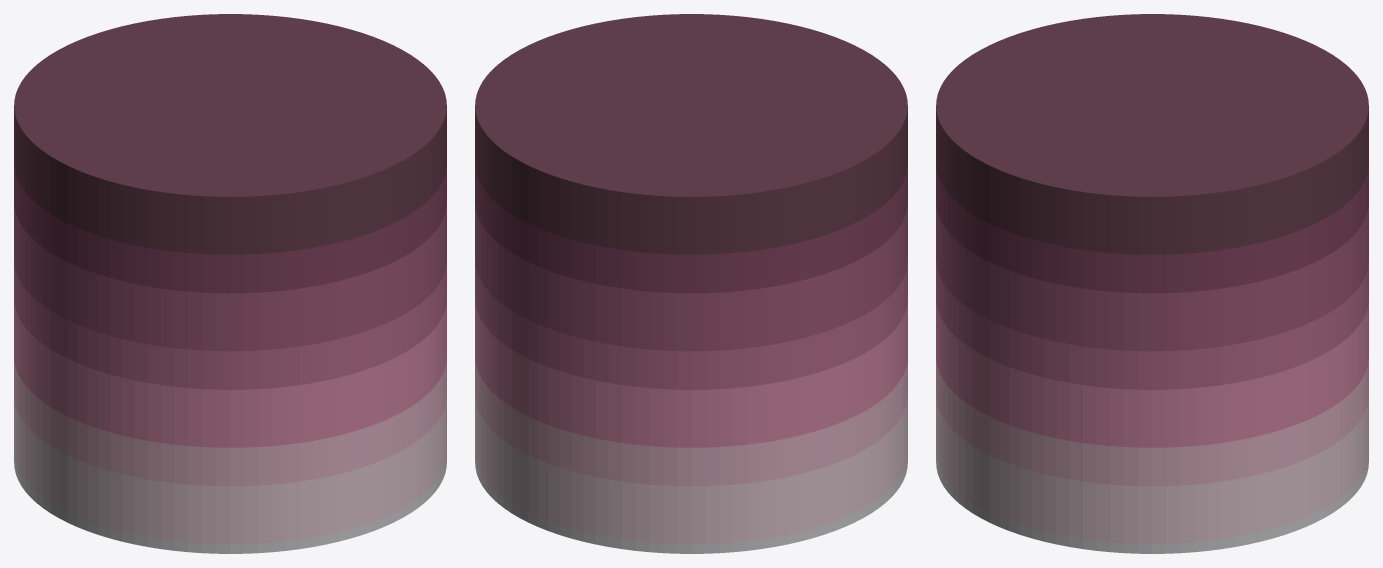
The model's file is cake_8in_layers4.glb.
The picture shows the model from 3 angles, left to right: view 1: azimuth 30°, elevation 25°; view 2: azimuth 150°, elevation 25°; view 3: azimuth 270°, elevation 25°; orthographic projection.
Parts seen in each view (by area): view 1: geometry_6, geometry_4, geometry_0, geometry_2, geometry_5, geometry_1, geometry_3, geometry_7; view 2: geometry_6, geometry_4, geometry_0, geometry_2, geometry_5, geometry_1, geometry_3, geometry_7; view 3: geometry_6, geometry_4, geometry_0, geometry_2, geometry_5, geometry_1, geometry_3, geometry_7.
Boxes of the visible parts, left/top/right/bottom form: geometry_6: left=14, top=14, right=446, bottom=254; geometry_4: left=14, top=203, right=446, bottom=351; geometry_0: left=14, top=396, right=446, bottom=544; geometry_2: left=14, top=299, right=446, bottom=447; geometry_5: left=14, top=164, right=446, bottom=293; geometry_1: left=14, top=357, right=446, bottom=486; geometry_3: left=14, top=261, right=446, bottom=389; geometry_7: left=14, top=454, right=446, bottom=553; geometry_6: left=475, top=14, right=907, bottom=254; geometry_4: left=475, top=203, right=907, bottom=351; geometry_0: left=475, top=396, right=907, bottom=544; geometry_2: left=475, top=299, right=907, bottom=447; geometry_5: left=475, top=164, right=907, bottom=293; geometry_1: left=475, top=357, right=907, bottom=486; geometry_3: left=475, top=261, right=907, bottom=389; geometry_7: left=475, top=454, right=907, bottom=553; geometry_6: left=936, top=14, right=1368, bottom=254; geometry_4: left=936, top=203, right=1368, bottom=351; geometry_0: left=936, top=396, right=1368, bottom=544; geometry_2: left=936, top=299, right=1368, bottom=447; geometry_5: left=936, top=164, right=1368, bottom=293; geometry_1: left=936, top=357, right=1368, bottom=486; geometry_3: left=936, top=261, right=1368, bottom=389; geometry_7: left=936, top=454, right=1368, bottom=553.
Bounding box in the file's own units: 0.2032 × 0.185 × 0.2032.
